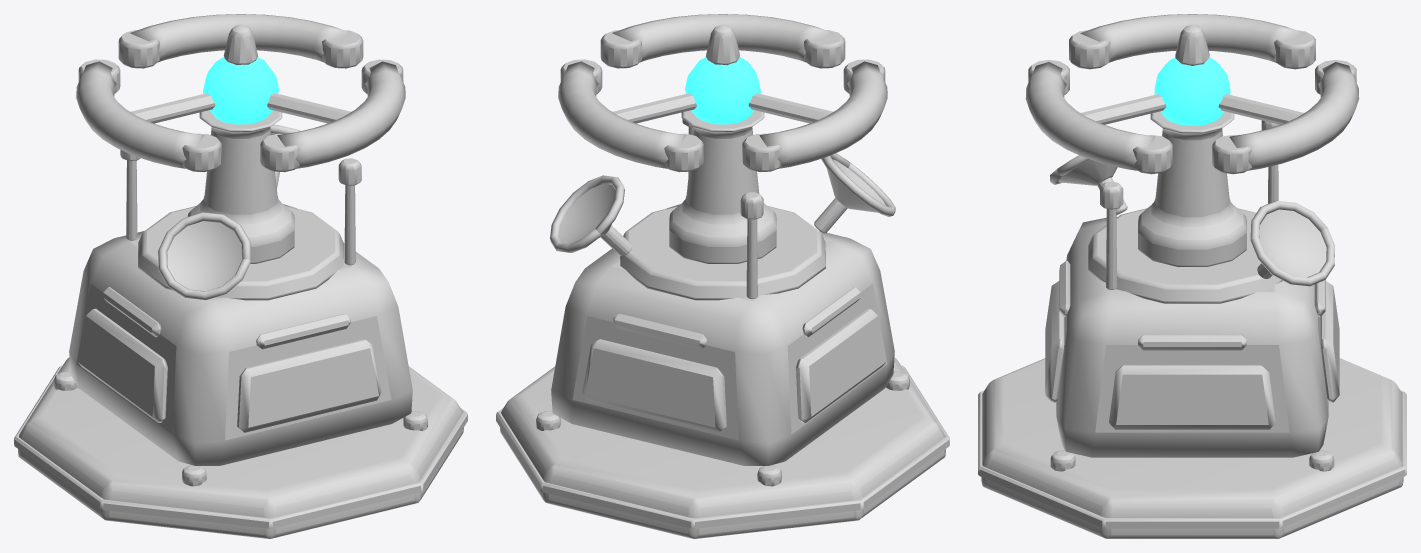
File: SM_RecoveryJammer.fbx
The picture shows the model from 3 angles, left to right: view 1: azimuth 30°, elevation 25°; view 2: azimuth 150°, elevation 25°; view 3: azimuth 270°, elevation 25°; orthographic projection.
Visible parts, largest first — view 1: RecoveryJammer, Ring; view 2: RecoveryJammer, Ring; view 3: RecoveryJammer, Ring.
Boxes of the visible parts, left/top/right/bottom form: RecoveryJammer: left=14, top=110, right=467, bottom=538; Ring: left=76, top=14, right=405, bottom=172; RecoveryJammer: left=496, top=110, right=949, bottom=538; Ring: left=558, top=14, right=887, bottom=172; RecoveryJammer: left=978, top=111, right=1406, bottom=538; Ring: left=1025, top=14, right=1359, bottom=174.
Bounding box in the file's own units: 2.8 × 3.08 × 2.8.
